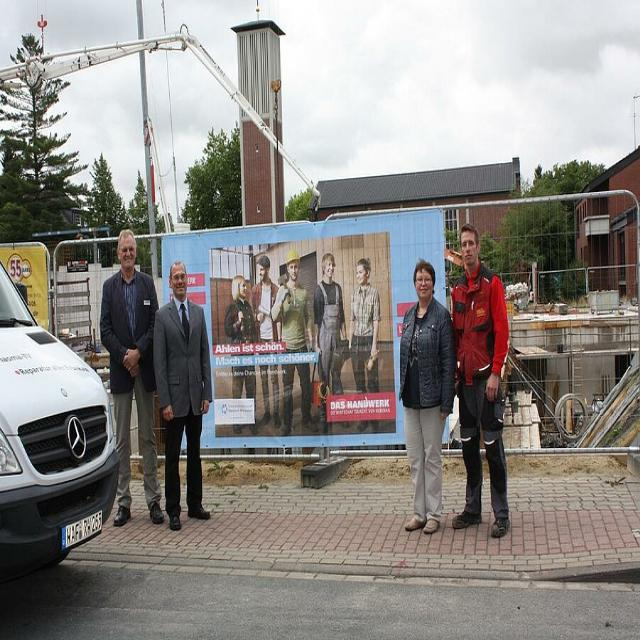Werbetafel frei: (162, 211, 446, 450)
